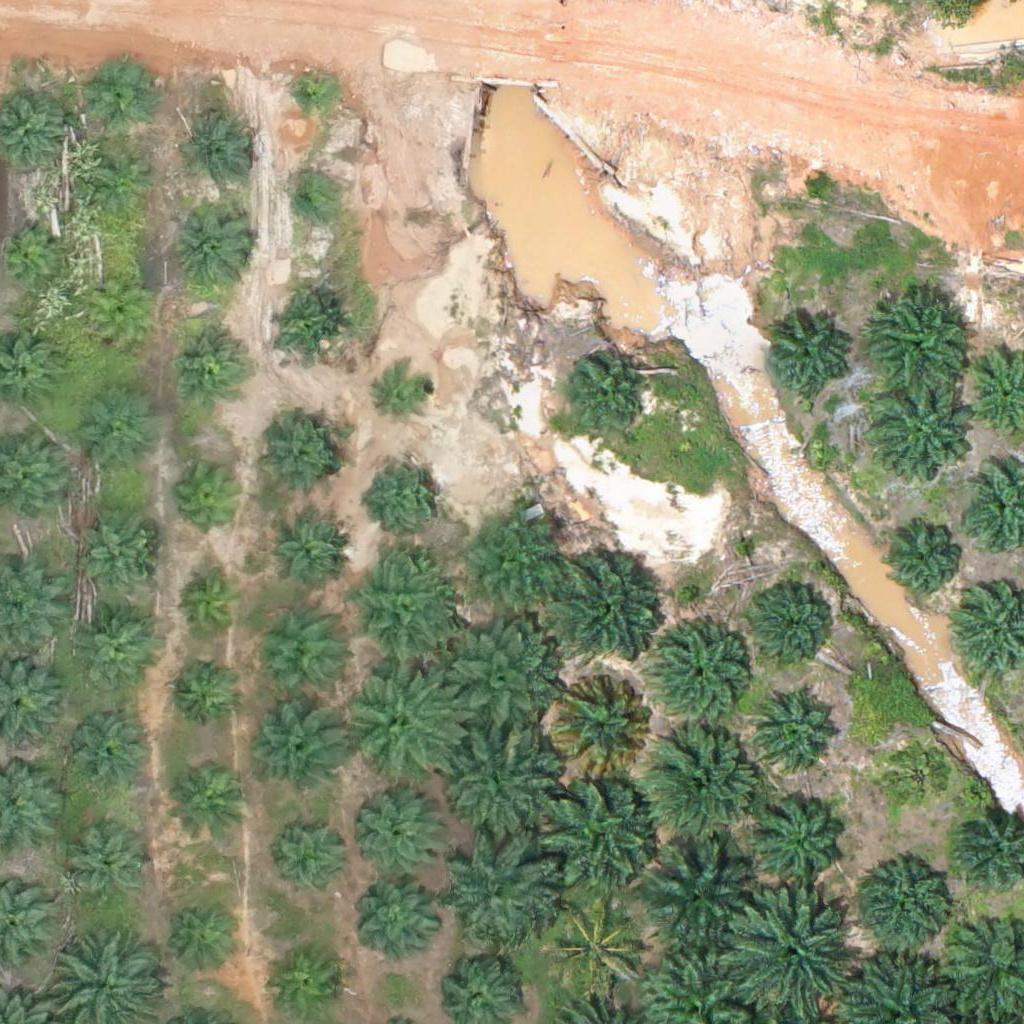Kelapa_Sawit: (340, 655, 465, 781), (543, 540, 668, 666), (537, 774, 662, 900), (440, 721, 565, 847), (437, 827, 562, 953), (639, 716, 764, 842), (723, 890, 848, 1016), (432, 620, 557, 745), (638, 832, 763, 957), (538, 888, 651, 1002), (545, 669, 658, 782), (457, 503, 569, 617), (646, 619, 758, 733), (347, 555, 459, 668), (354, 780, 454, 881), (872, 382, 972, 483), (868, 289, 968, 390), (747, 784, 847, 885), (850, 859, 950, 960), (246, 611, 346, 711), (260, 416, 348, 504), (352, 874, 440, 962), (72, 609, 160, 697), (69, 826, 157, 914), (763, 314, 851, 402), (264, 513, 351, 601), (562, 355, 649, 443), (881, 514, 968, 602), (255, 701, 342, 789), (71, 517, 158, 605), (63, 711, 150, 799), (755, 684, 842, 772), (750, 579, 837, 667), (177, 110, 252, 186), (268, 291, 343, 367), (171, 766, 246, 842), (166, 655, 241, 731), (172, 567, 247, 643), (370, 454, 445, 530), (177, 207, 252, 283), (881, 737, 956, 813), (82, 398, 157, 473), (169, 325, 244, 400), (175, 458, 250, 533), (168, 902, 243, 977), (268, 942, 343, 1017), (277, 822, 352, 897), (90, 60, 153, 123), (86, 282, 149, 345), (96, 156, 158, 219), (375, 363, 437, 426), (287, 71, 337, 121), (283, 178, 333, 228)
